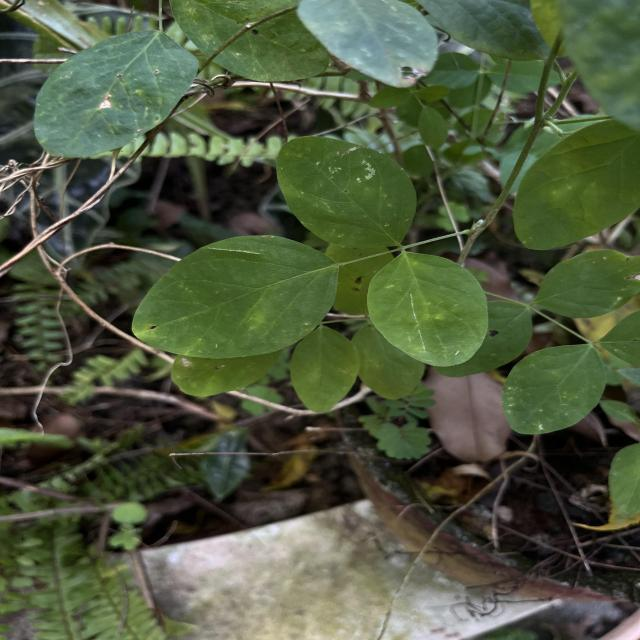Clitoria ternatea: (130, 234, 340, 360), (275, 134, 418, 252), (366, 250, 489, 368), (500, 342, 608, 436)
